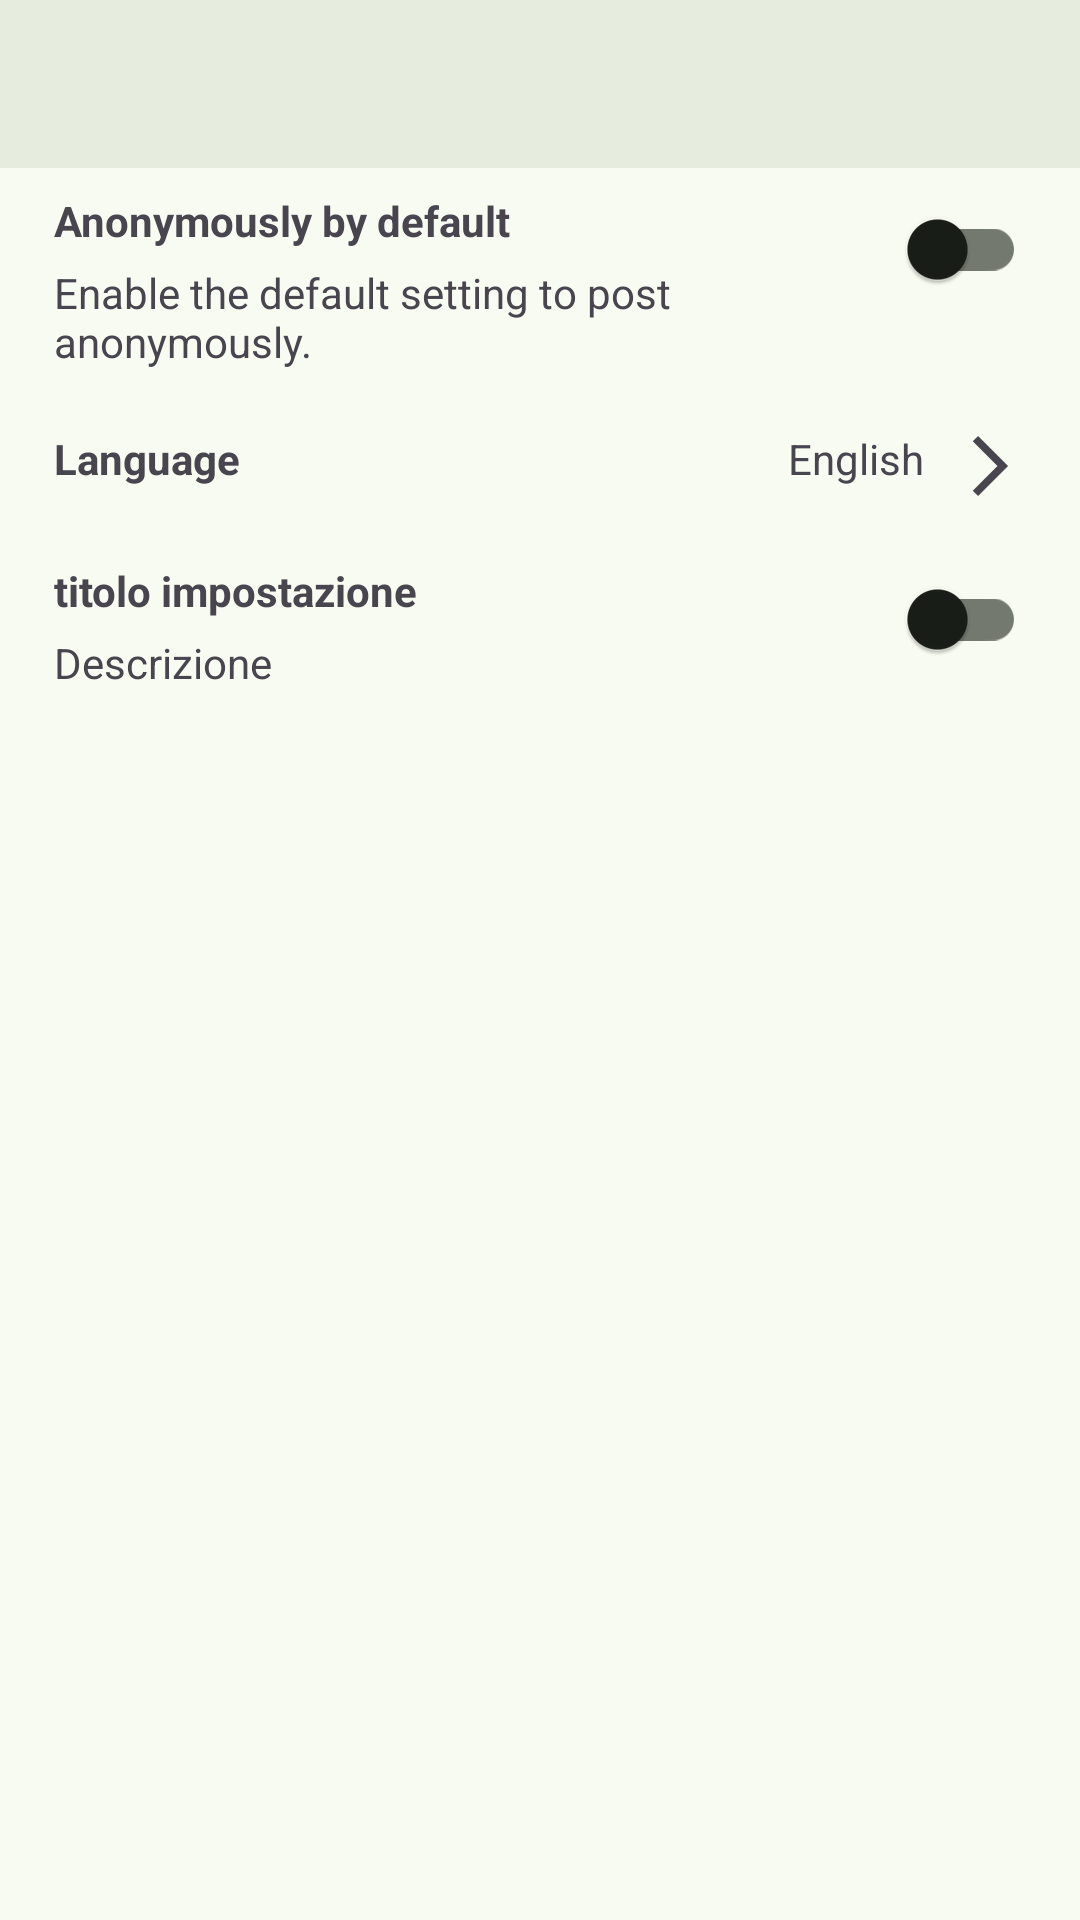

Screen size 1080 x 1920. Icon name, then its box in pixels as (x1, y1, x2, y2):
arrow forward: (973, 436, 1008, 496)
